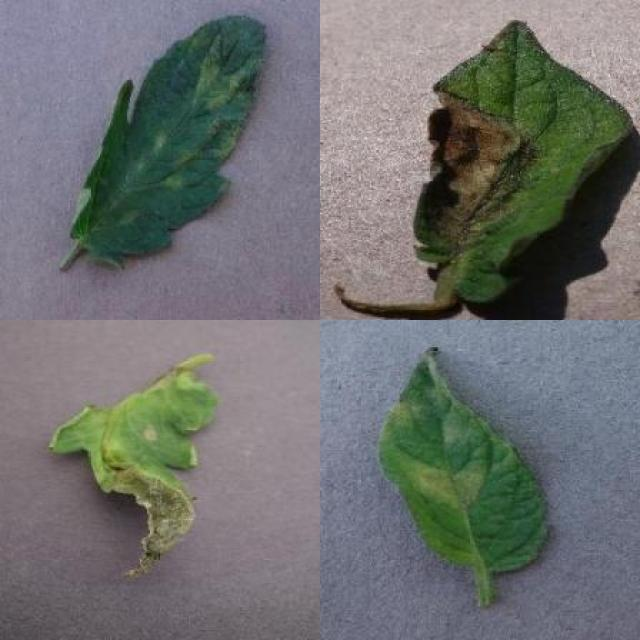Late Blight: (415, 19, 638, 302), (45, 355, 221, 578)
Leaf Mold: (71, 14, 266, 272), (381, 347, 553, 573)
